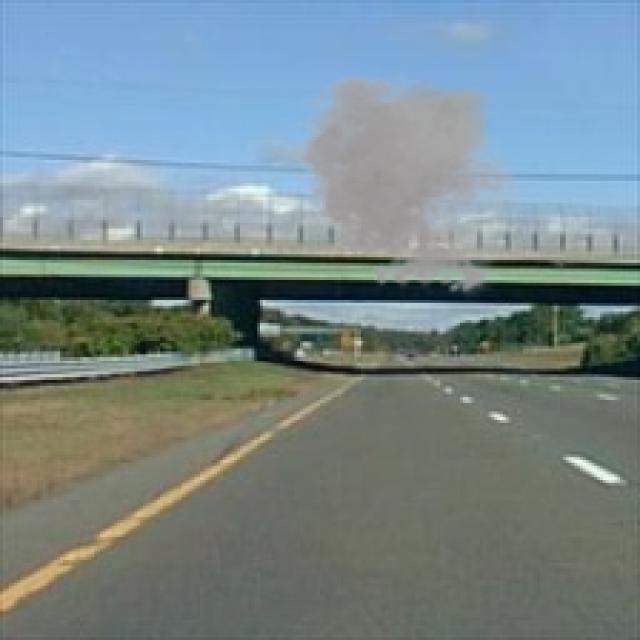smoke: (286, 66, 528, 300)
